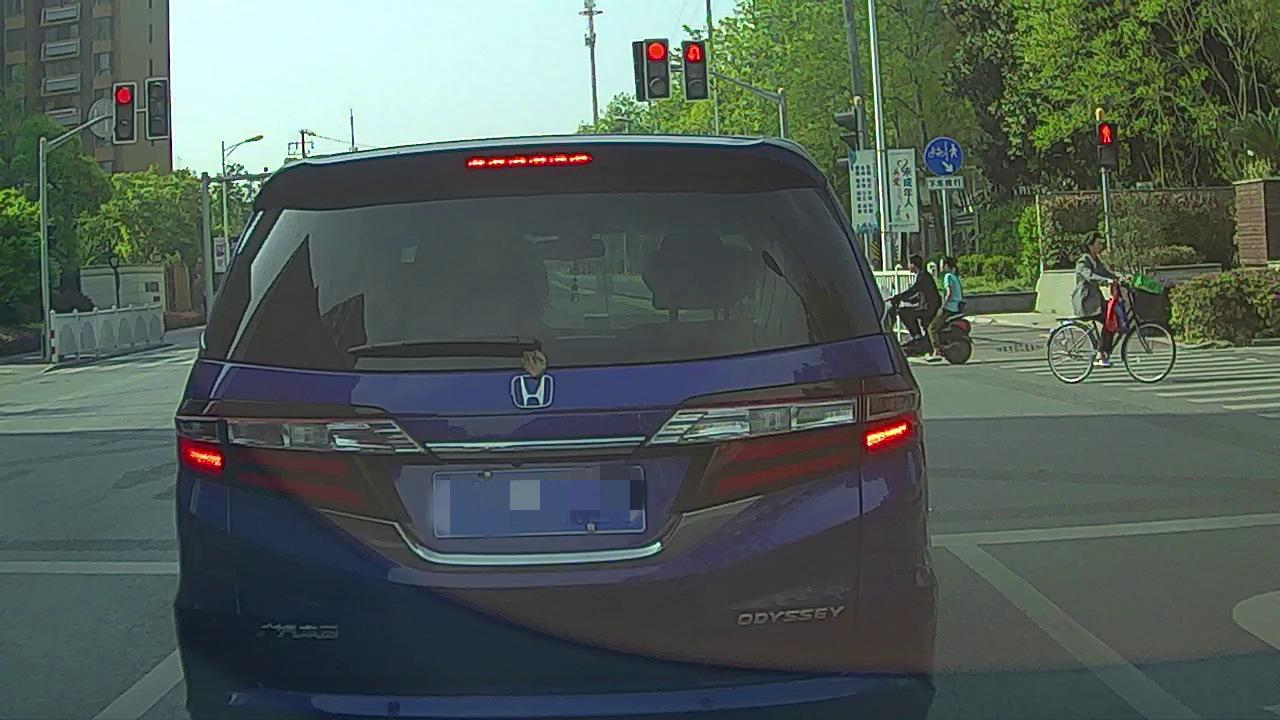traffic_light: (684, 40, 706, 100), (646, 41, 669, 96), (114, 83, 135, 142), (147, 80, 168, 138)
